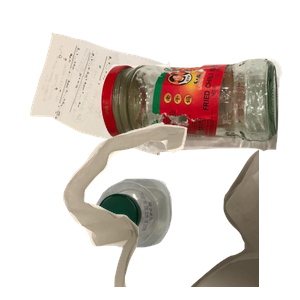glass: (98, 56, 300, 201)
paper: (27, 30, 203, 178)
plastic: (92, 176, 257, 300)
trash: (60, 120, 300, 300)
